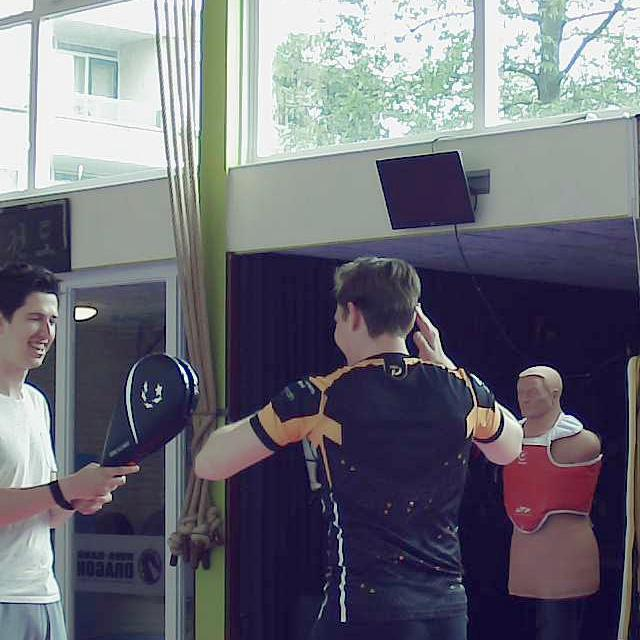paddle: (103, 352, 197, 472)
